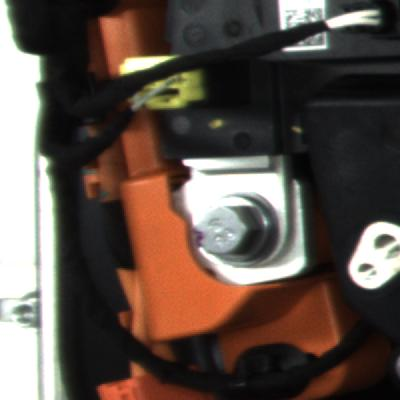nut_b: (187, 187, 281, 275)
